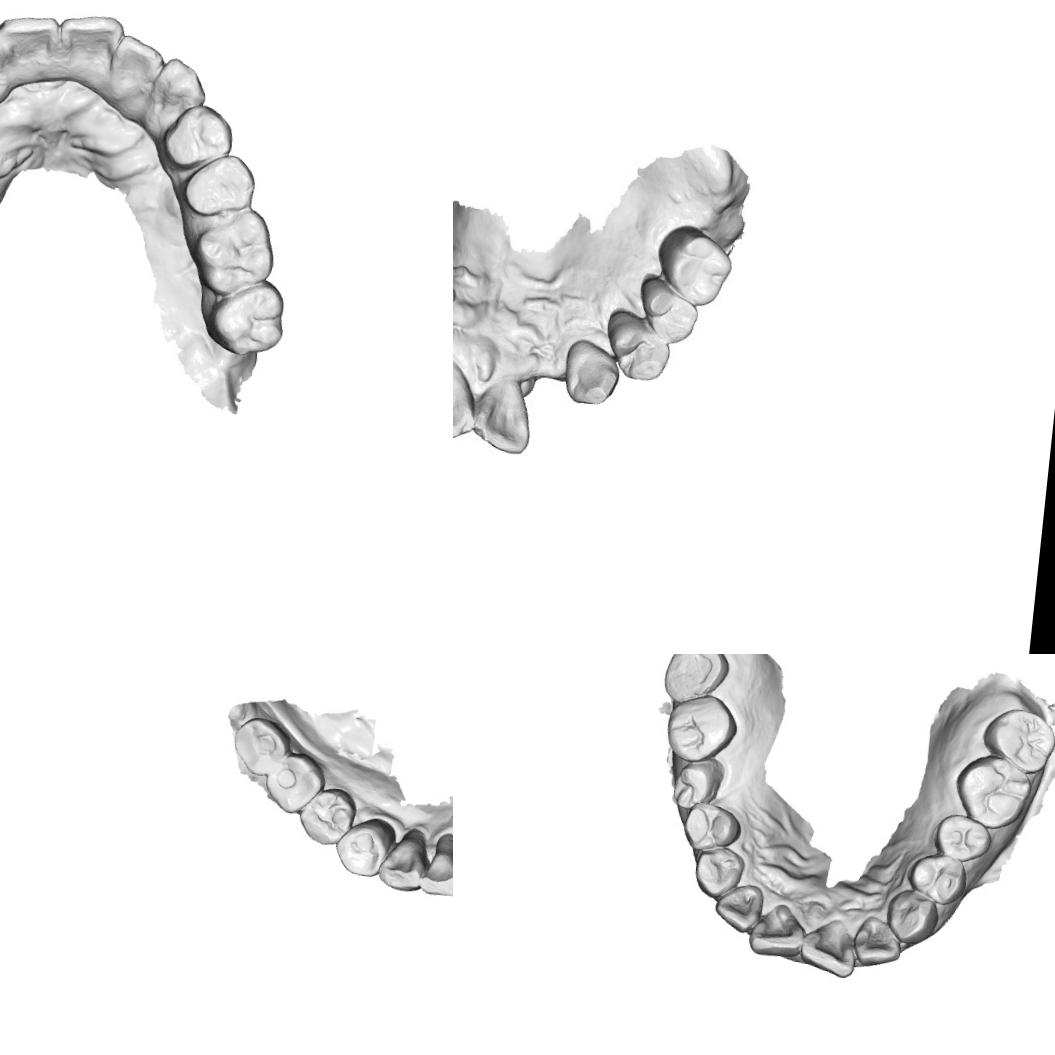canine: (558, 334, 625, 409), (145, 53, 209, 131), (376, 824, 432, 894), (884, 886, 941, 948), (691, 844, 748, 902)
incisor: (53, 12, 128, 90), (467, 380, 534, 456), (102, 34, 167, 106), (0, 9, 60, 80), (798, 914, 861, 980), (746, 900, 808, 962), (849, 914, 906, 970), (710, 880, 766, 936), (418, 831, 453, 898), (453, 358, 476, 442)
molar: (184, 202, 282, 302), (201, 272, 290, 362), (652, 222, 736, 310), (950, 750, 1036, 833), (663, 688, 741, 766), (978, 704, 1055, 776), (262, 748, 328, 816), (229, 714, 294, 779), (660, 654, 732, 709)
premolar: (174, 148, 262, 224), (158, 98, 240, 173), (604, 310, 676, 386), (633, 273, 701, 346), (332, 814, 398, 880), (296, 784, 358, 848), (904, 850, 970, 908), (680, 800, 744, 856), (670, 754, 727, 813), (932, 812, 995, 864)
